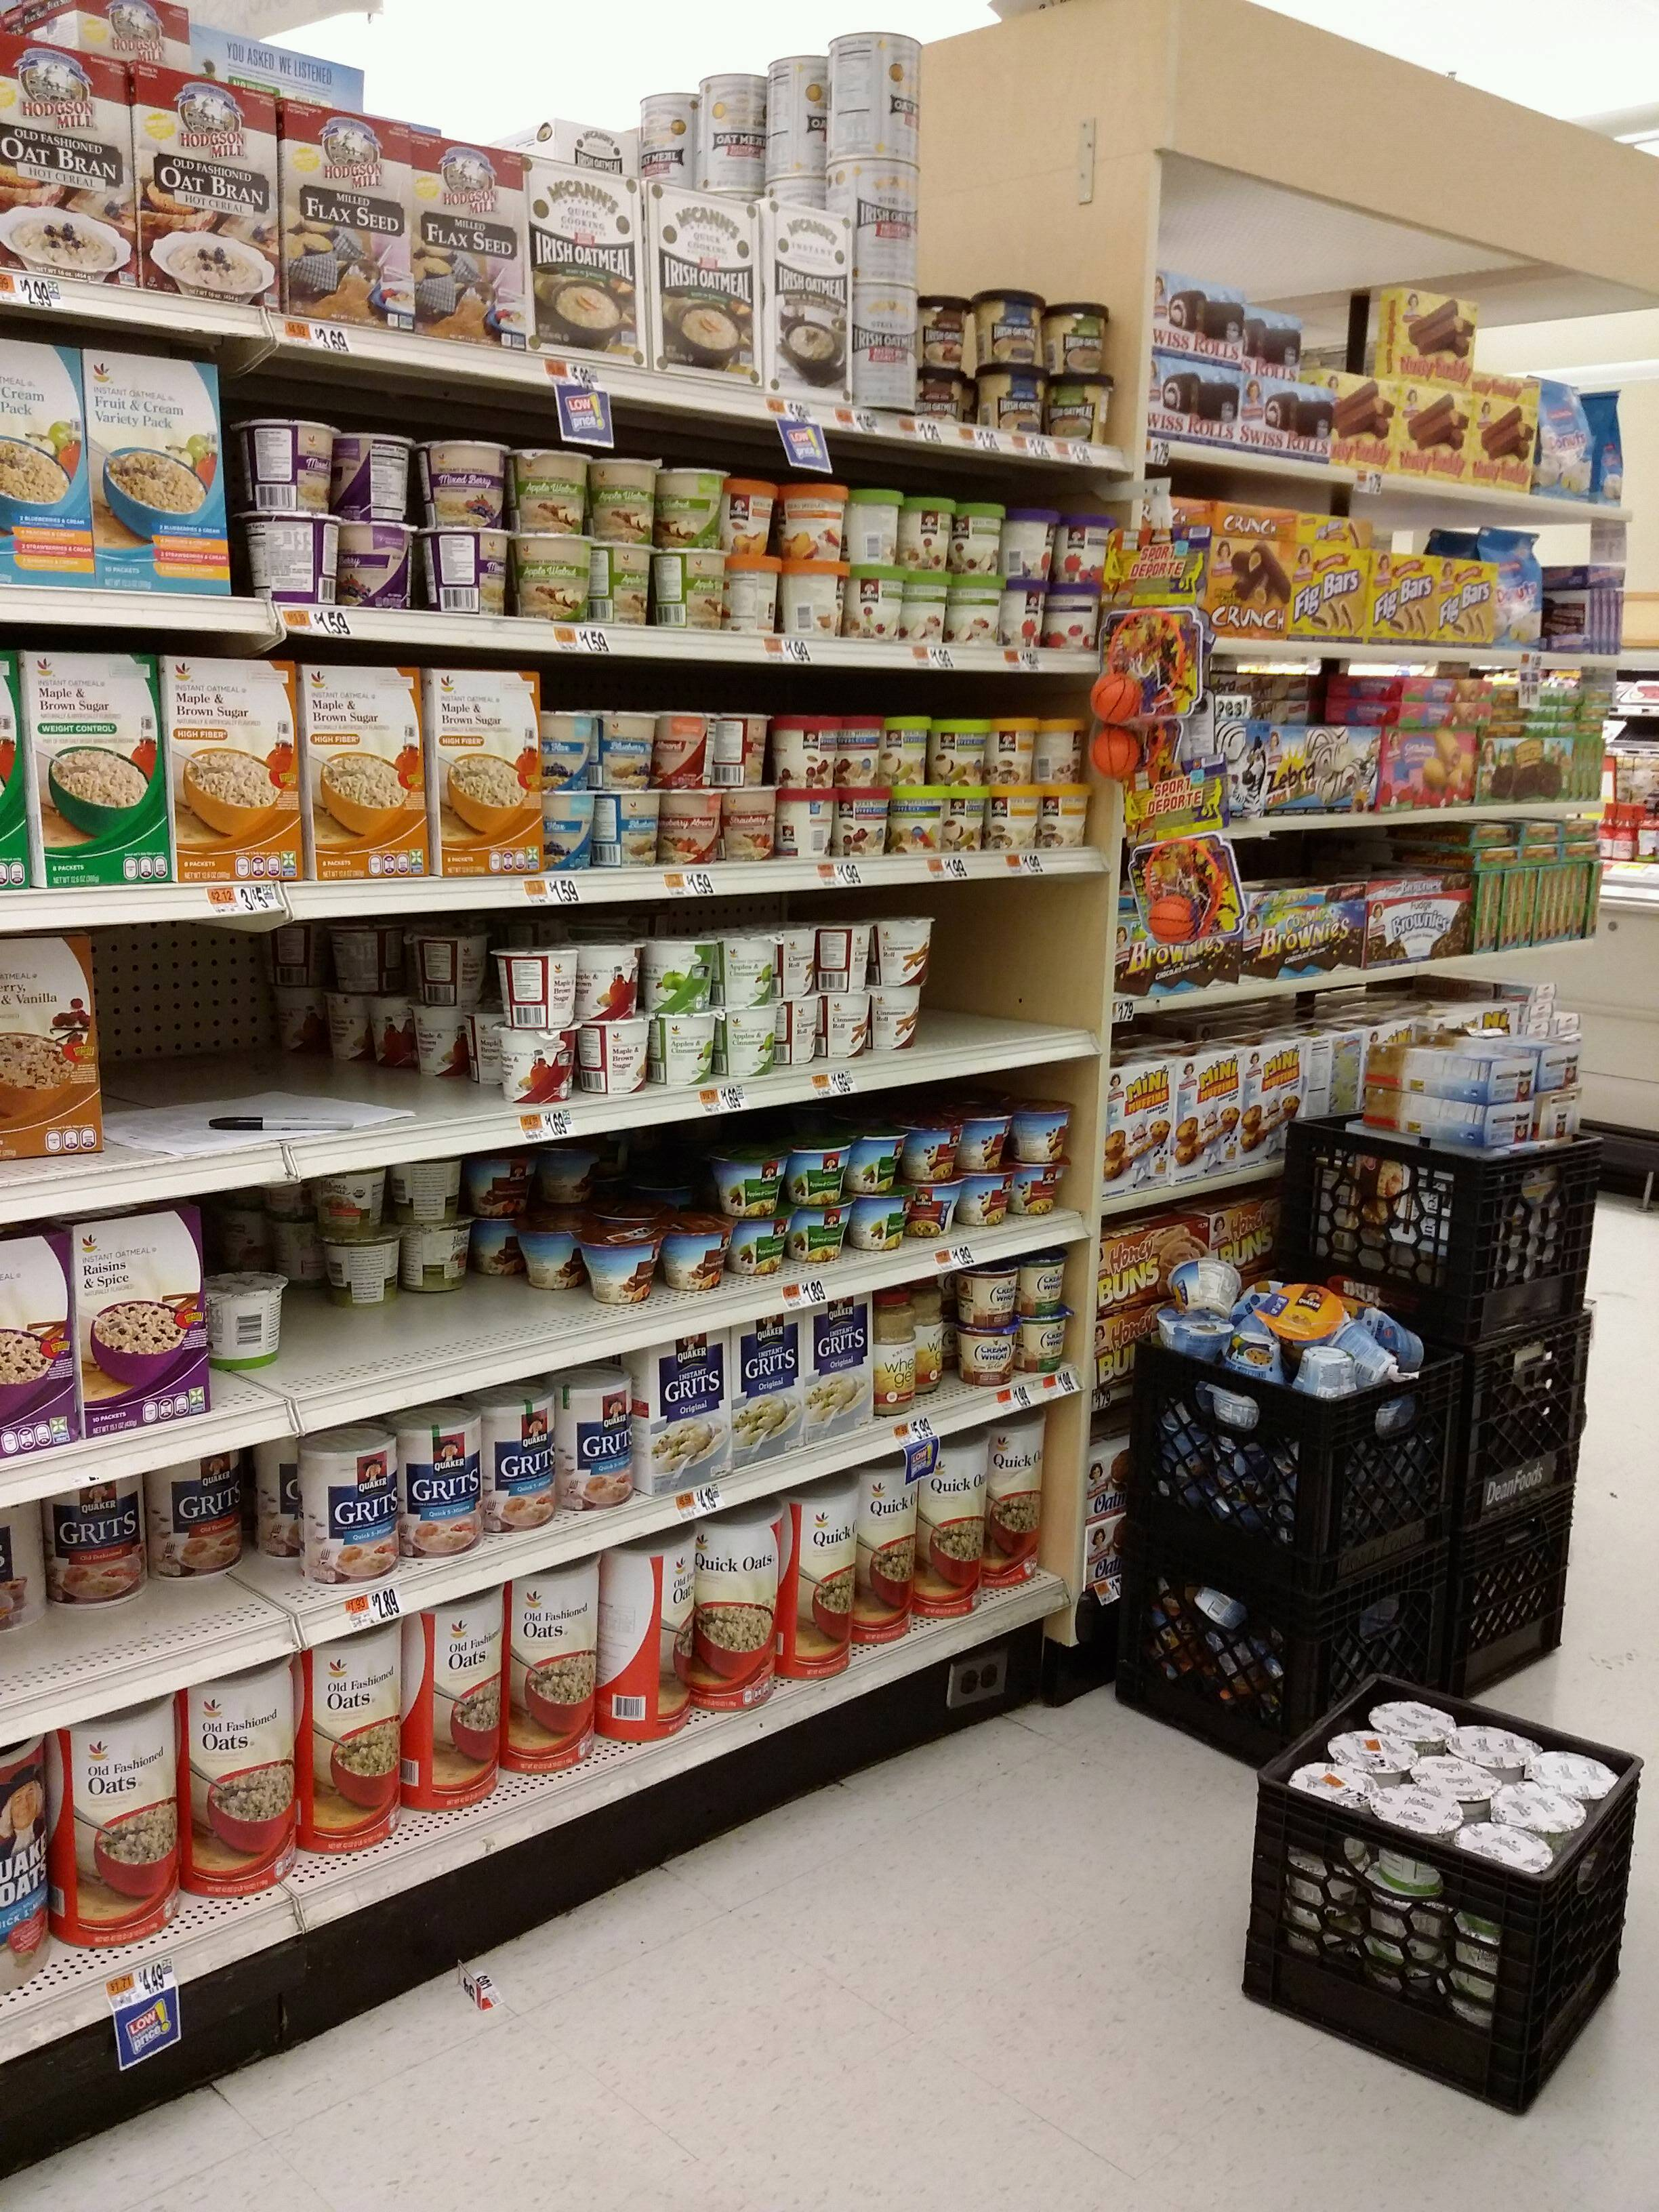Misplacement: (0, 1432, 308, 1703), (314, 1157, 467, 1372), (587, 1146, 735, 1312), (202, 1259, 307, 1423)
Out-of-stock: (101, 914, 465, 1150), (932, 888, 1094, 1059)
